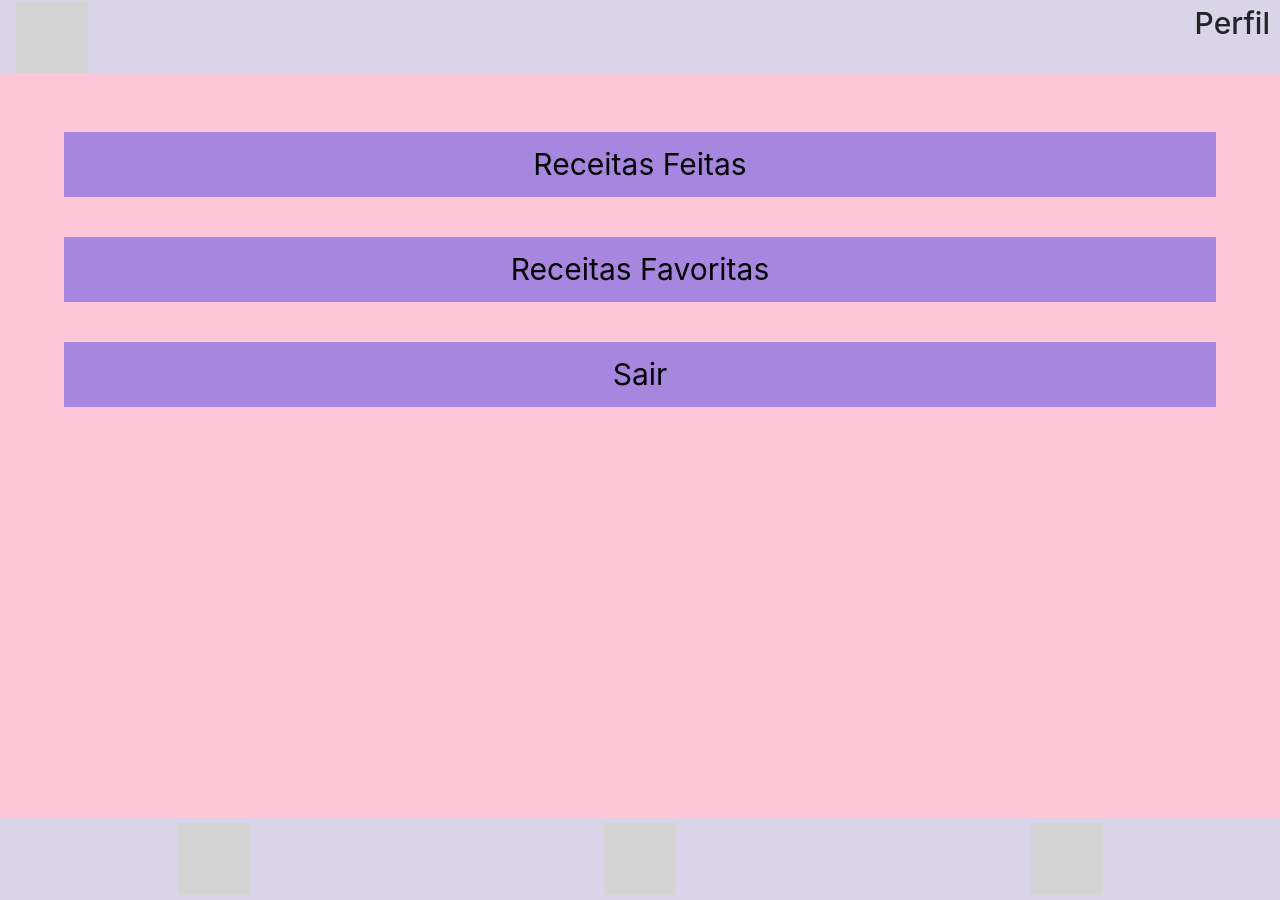
Testa tela de perfil › Testa se ao clicar no botão "Sair", renderiza o componente "Login"
Click the button with test id "profile-logout-btn": (640, 374) [64,342,1216,407]
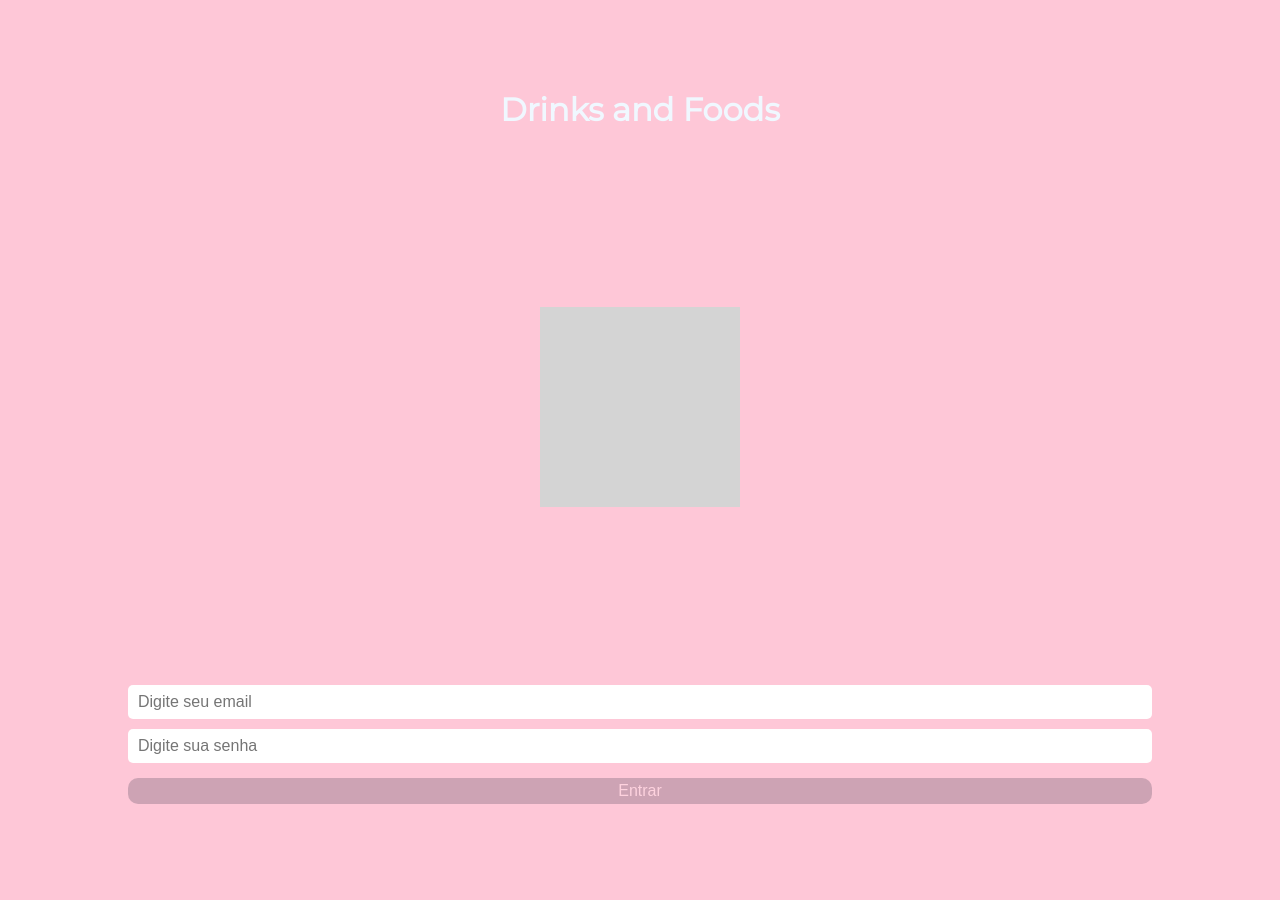
Expected: the button with test id "login-submit-btn" is shown, [128,778,1152,804]
